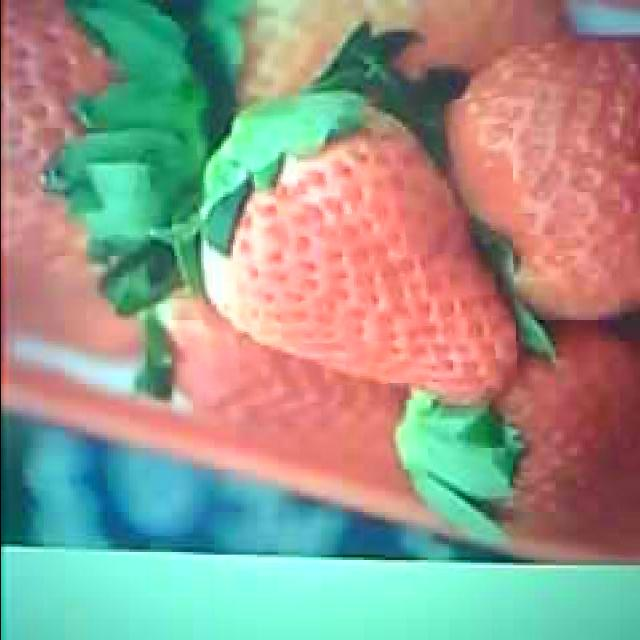strawberry: (198, 100, 514, 403)
